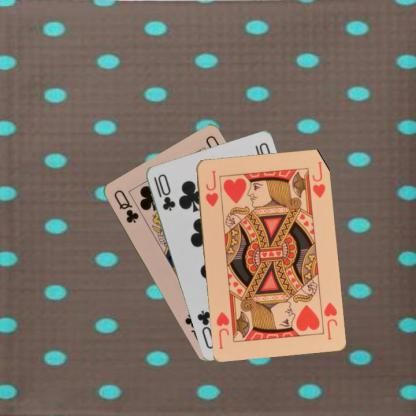10c: (151, 171, 177, 212)
Jh: (320, 300, 338, 340), (202, 168, 219, 208)
Qc: (110, 187, 140, 224)
